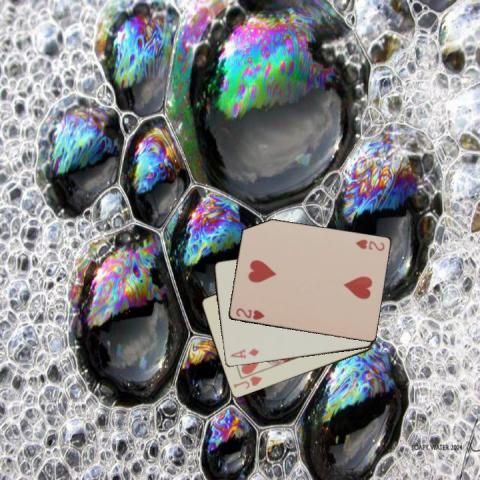2h: (352, 236, 386, 253), (233, 305, 265, 322)
Ad: (227, 345, 261, 360)
Jh: (230, 373, 263, 391)
